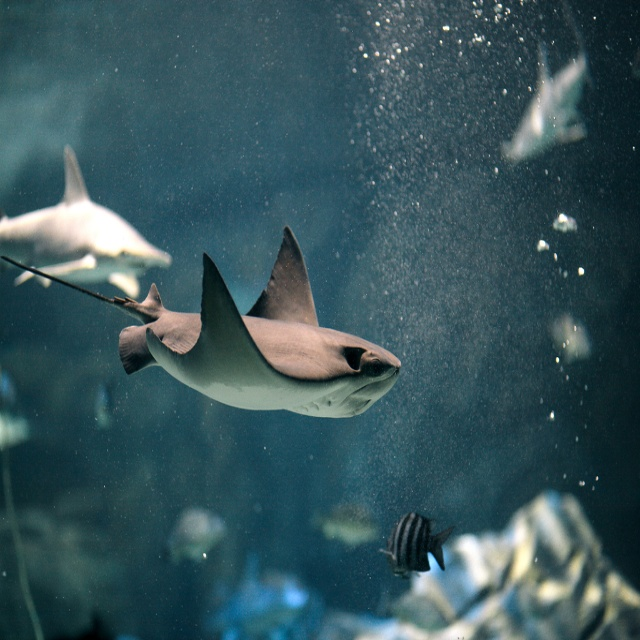Shark: (95, 217, 415, 427), (3, 148, 174, 294)
